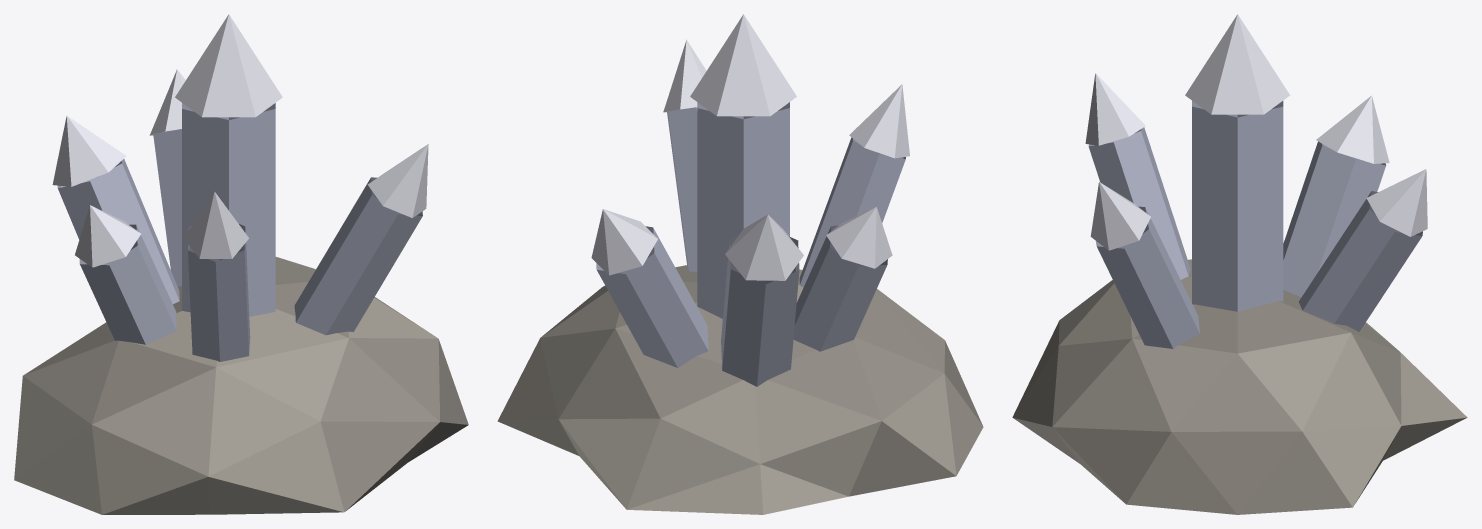
Rendered from quartz_c.glb.
The picture shows the model from 3 angles, left to right: view 1: azimuth 30°, elevation 25°; view 2: azimuth 150°, elevation 25°; view 3: azimuth 270°, elevation 25°; orthographic projection. The views are drawn at different scales.
Visible parts, largest first — view 1: quartz_c; view 2: quartz_c; view 3: quartz_c.
Part boxes in pixels (box(x1,y1,x2,y2)): quartz_c: box(14, 14, 468, 514); quartz_c: box(497, 14, 983, 514); quartz_c: box(1012, 14, 1467, 514).
Bounding box in the file's own units: 0.9864 × 0.93 × 0.9509.
